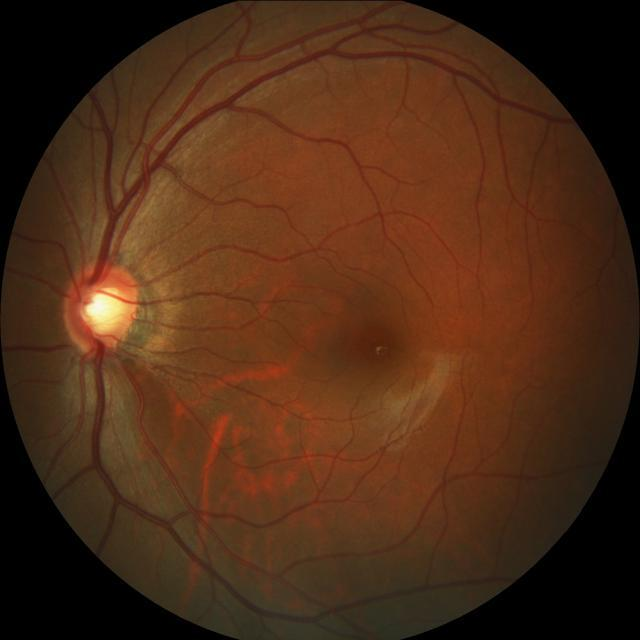OC: (80, 286, 126, 332)
OD: (61, 262, 138, 354)
